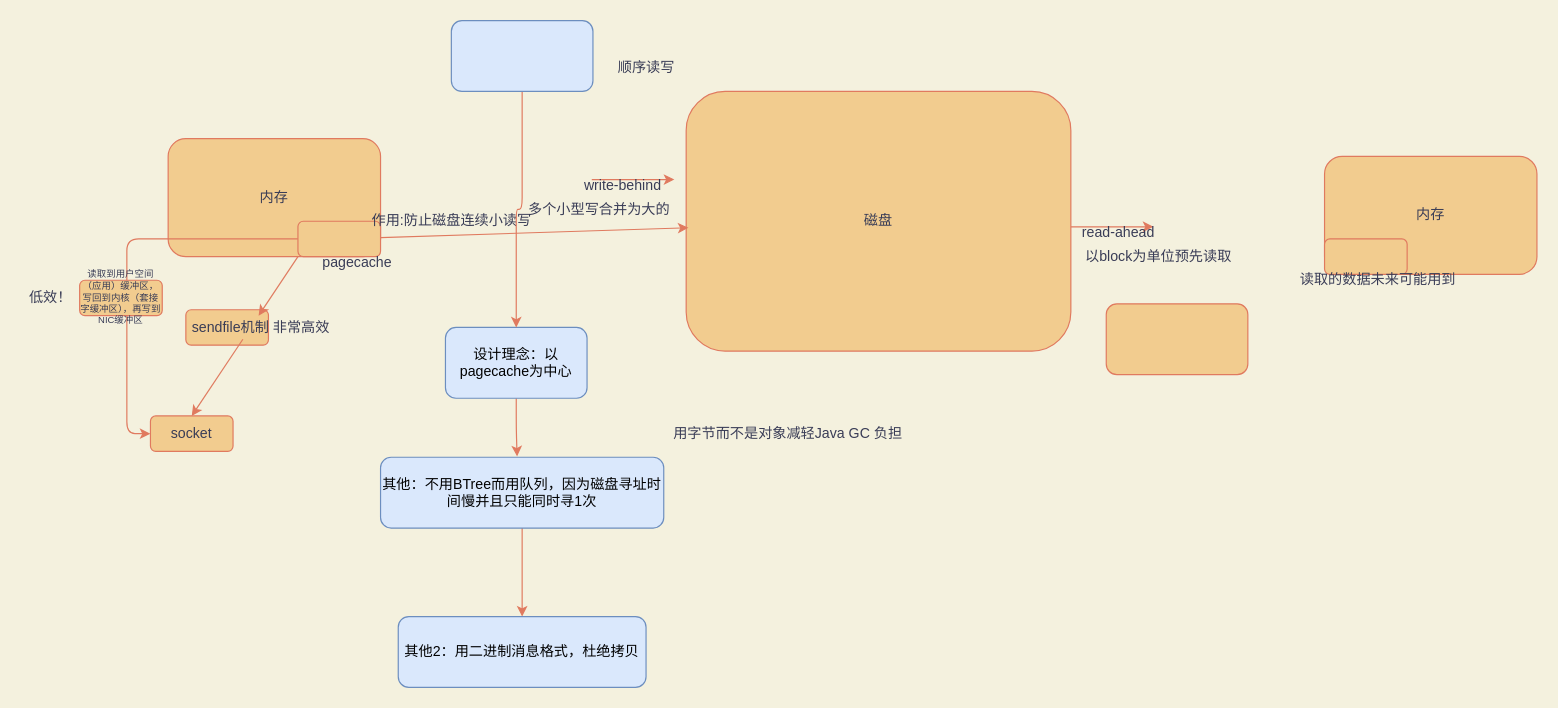
Image size: 1558x708. Some labels were removed from this diagram. Here are the shapes that lost their labels. From the top down, the centre of each, then its label:
At pixel 521 55: "基于磁盘的，因为磁盘的顺序读写速度较快 而且 便宜".
At pixel 339 238: "磁盘缓存".
At pixel 1365 256: "page cache".
At pixel 1176 339: "消息块".
